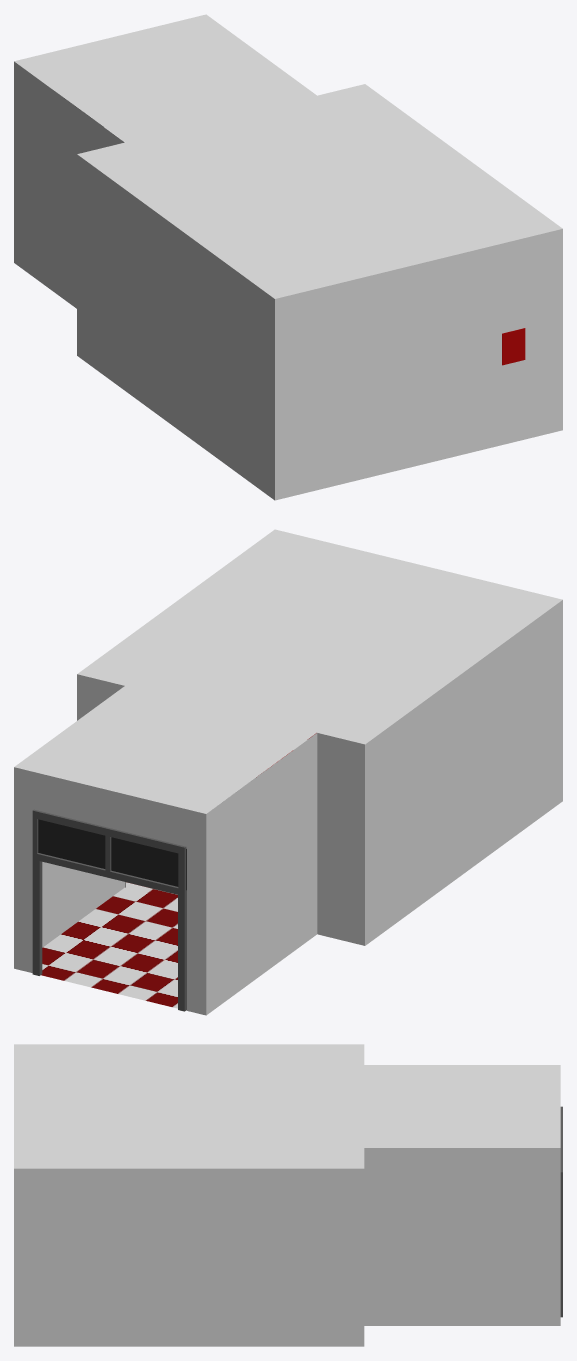
Rendered from restaurant.fbx.
3 views of the same model, one above another, from view 1: azimuth 30°, elevation 25°; view 2: azimuth 150°, elevation 25°; view 3: azimuth 270°, elevation 25° (orthographic). The views are drawn at different scales.
Parts seen in each view (by area): view 1: Plane, Cube.006; view 2: Plane, Plane.001, Cube.008; view 3: Plane, Cube.008.
Part boxes in pixels (box(x1,y1,x2,y2)): Plane: box(14, 14, 562, 500); Cube.006: box(502, 328, 525, 365); Plane: box(14, 529, 562, 1015); Plane.001: box(14, 767, 206, 1015); Cube.008: box(32, 809, 186, 1011); Plane: box(14, 1044, 560, 1346); Cube.008: box(560, 1106, 562, 1317).
Bounding box in the file's own units: 600 × 402 × 1119.
Materials: 16 (4 with a texture image).
